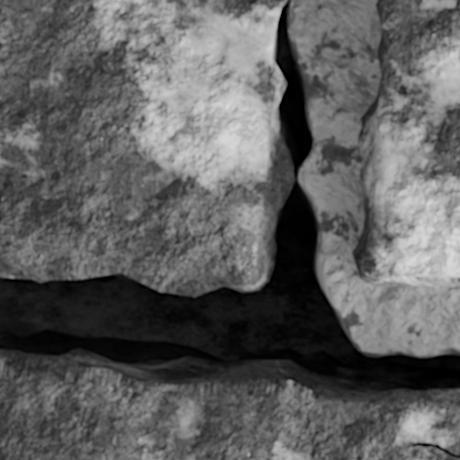brick: (0, 0, 293, 294), (0, 351, 459, 459), (353, 0, 459, 284)
crack: (0, 0, 459, 396), (409, 442, 459, 459)
